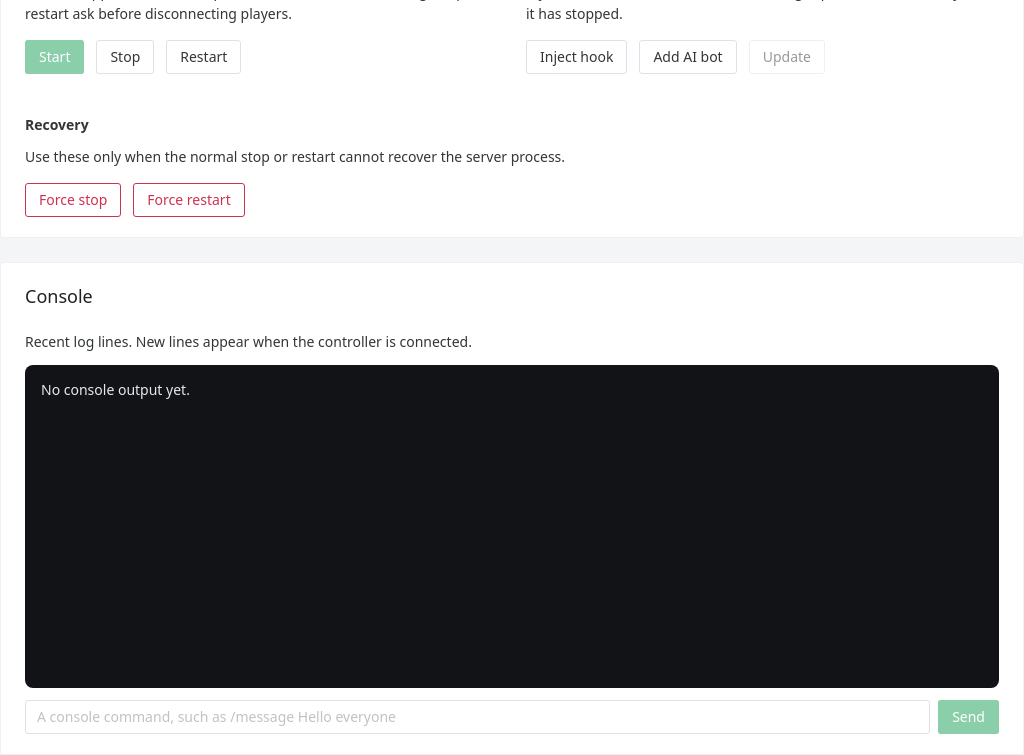
Test: ServerControlView › adds an AI bot with the /bot command
This screenshot has width=1024, height=755.
(page scrolled)
In the field named "Console command": coordinates (478, 717) [37,700,918,734], type "/message hi"
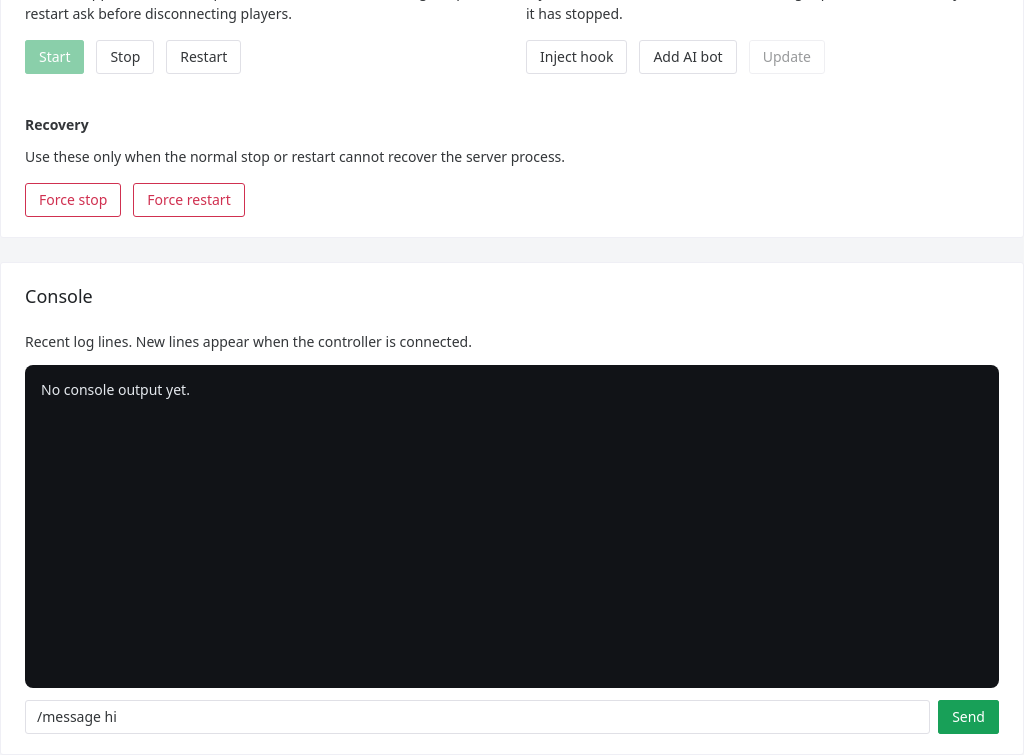
Click the button "Add AI bot": coordinates (688, 56) [639,40,737,74]
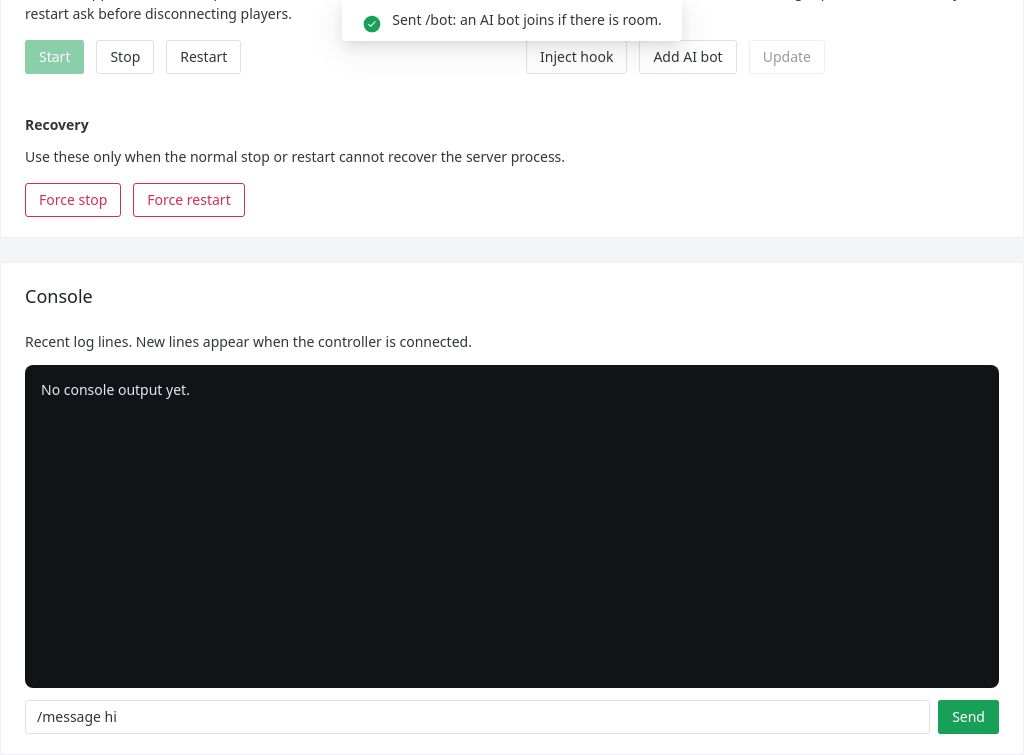
expect the text "Sent /bot: an AI bot joins if there is room." is shown: met, box [392,9,662,31]
